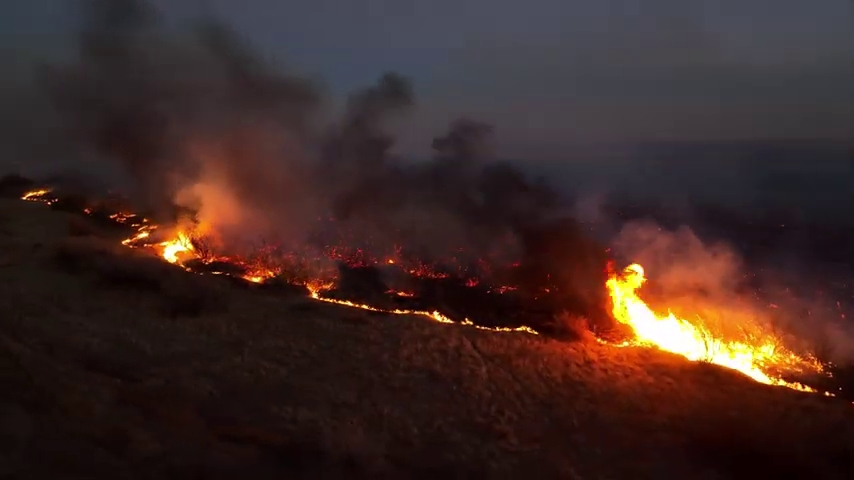forest_fire: (600, 264, 821, 390), (294, 276, 538, 333), (108, 212, 281, 282), (21, 189, 54, 203), (385, 288, 415, 297)
